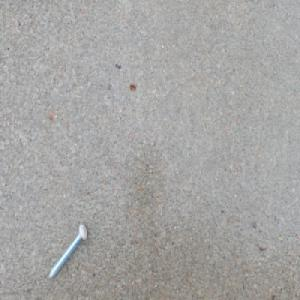Nail: (46, 223, 87, 281)
